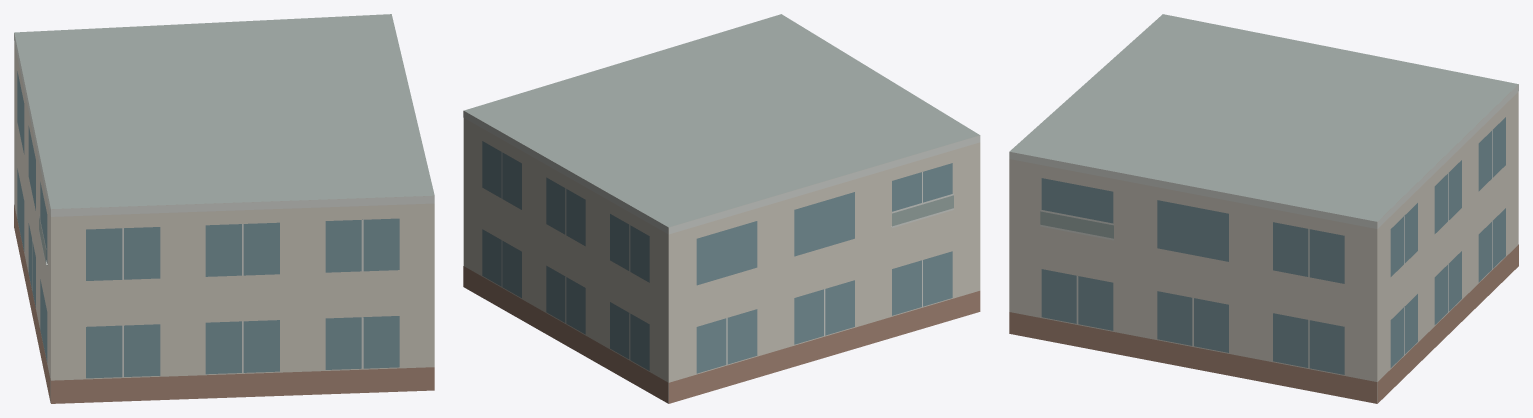
The model's file is survey-upis-32682056.glb.
3 views of the same model, side by side, from view 1: azimuth 30°, elevation 25°; view 2: azimuth 150°, elevation 25°; view 3: azimuth 270°, elevation 25° (orthographic). The views are drawn at different scales.
Visible parts, largest first — view 1: survey-upis-32682056.tmp; view 2: survey-upis-32682056.tmp; view 3: survey-upis-32682056.tmp.
Boxes of the visible parts, left/top/right/bottom form: survey-upis-32682056.tmp: left=14, top=14, right=434, bottom=403; survey-upis-32682056.tmp: left=463, top=14, right=980, bottom=403; survey-upis-32682056.tmp: left=1009, top=14, right=1518, bottom=403.
Bounding box in the file's own units: 14.95 × 6.1 × 15.48.
